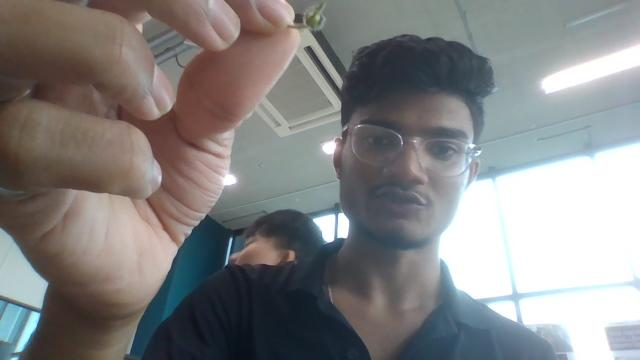Fruit Bud: (303, 1, 327, 31), (307, 13, 321, 28)
